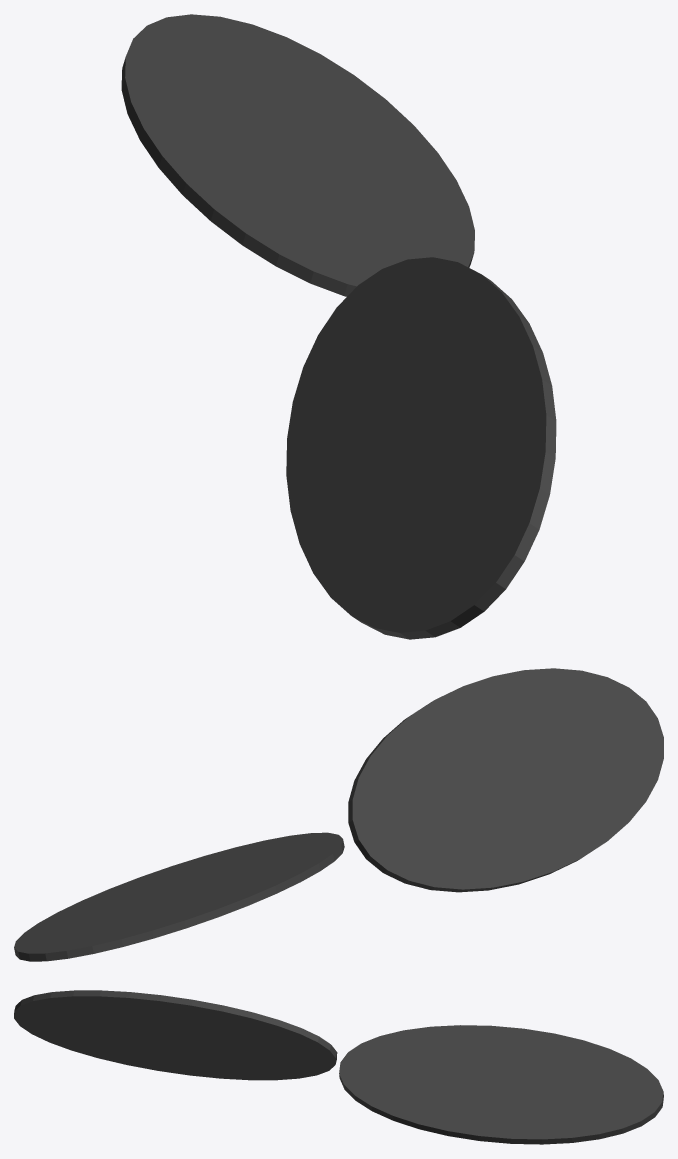
The model's file is galaxyPropeller.obj.
3 views of the same model, one above another, from view 1: azimuth 30°, elevation 25°; view 2: azimuth 150°, elevation 25°; view 3: azimuth 270°, elevation 25° (orthographic). The views are drawn at different scales.
Visible parts, largest first — view 1: 円柱.008_円柱.010, 円柱.007_円柱.009; view 2: 円柱.008_円柱.010, 円柱.007_円柱.009; view 3: 円柱.007_円柱.009, 円柱.008_円柱.010.
Part boxes in pixels (bbox=[...]): 円柱.008_円柱.010: bbox=[286, 257, 556, 639]; 円柱.007_円柱.009: bbox=[121, 14, 474, 296]; 円柱.008_円柱.010: bbox=[348, 668, 663, 892]; 円柱.007_円柱.009: bbox=[14, 832, 344, 961]; 円柱.007_円柱.009: bbox=[339, 1025, 663, 1144]; 円柱.008_円柱.010: bbox=[14, 990, 337, 1080].
Bounding box in the file's own units: 0.444 × 0.2122 × 1.03.
2 materials, 2 textured.
